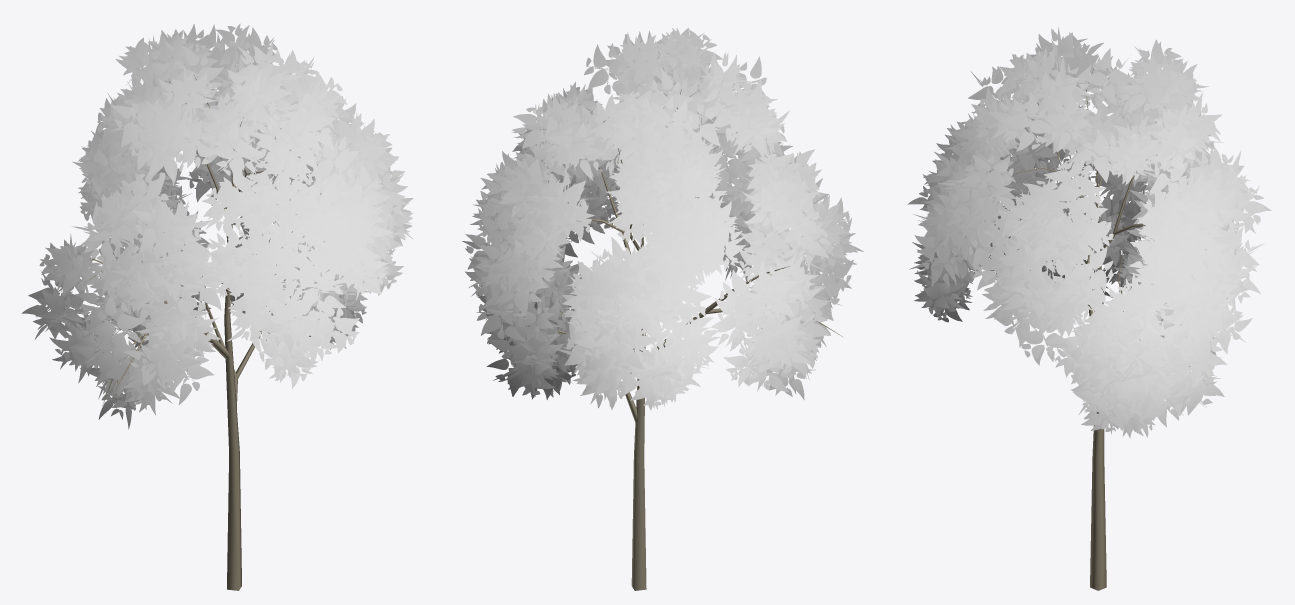
File: NormalTree_LOD1.fbx
3 renders of one model, left to right at view 1: azimuth 30°, elevation 25°; view 2: azimuth 150°, elevation 25°; view 3: azimuth 270°, elevation 25°, orthographic. The views are drawn at different scales.
Visible parts, largest first — view 1: leaf_LOD1, Trunk_LOD1; view 2: leaf_LOD1, Trunk_LOD1; view 3: leaf_LOD1, Trunk_LOD1.
Boxes of the visible parts, x1=… form: leaf_LOD1: x1=21, y1=23, x2=413, y2=429; Trunk_LOD1: x1=68, y1=74, x2=292, y2=590; leaf_LOD1: x1=462, y1=28, x2=863, y2=410; Trunk_LOD1: x1=558, y1=79, x2=843, y2=590; leaf_LOD1: x1=907, y1=27, x2=1271, y2=437; Trunk_LOD1: x1=1011, y1=68, x2=1205, y2=590.
Bounding box in the file's own units: 941 × 1408 × 903.
